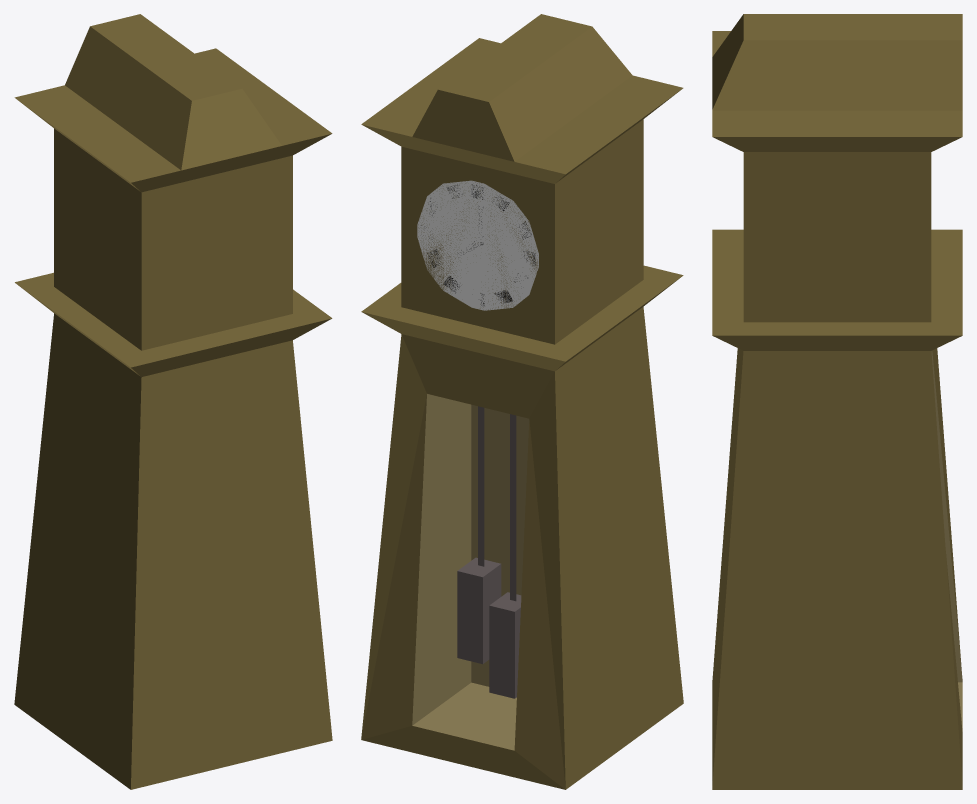
File: obj_grandfather_clock_0.obj
3 views of the same model, side by side, from view 1: azimuth 30°, elevation 25°; view 2: azimuth 150°, elevation 25°; view 3: azimuth 270°, elevation 25° (orthographic). The views are drawn at different scales.
Size of the model in its own units: 0.5 by 1.56 by 0.5.
